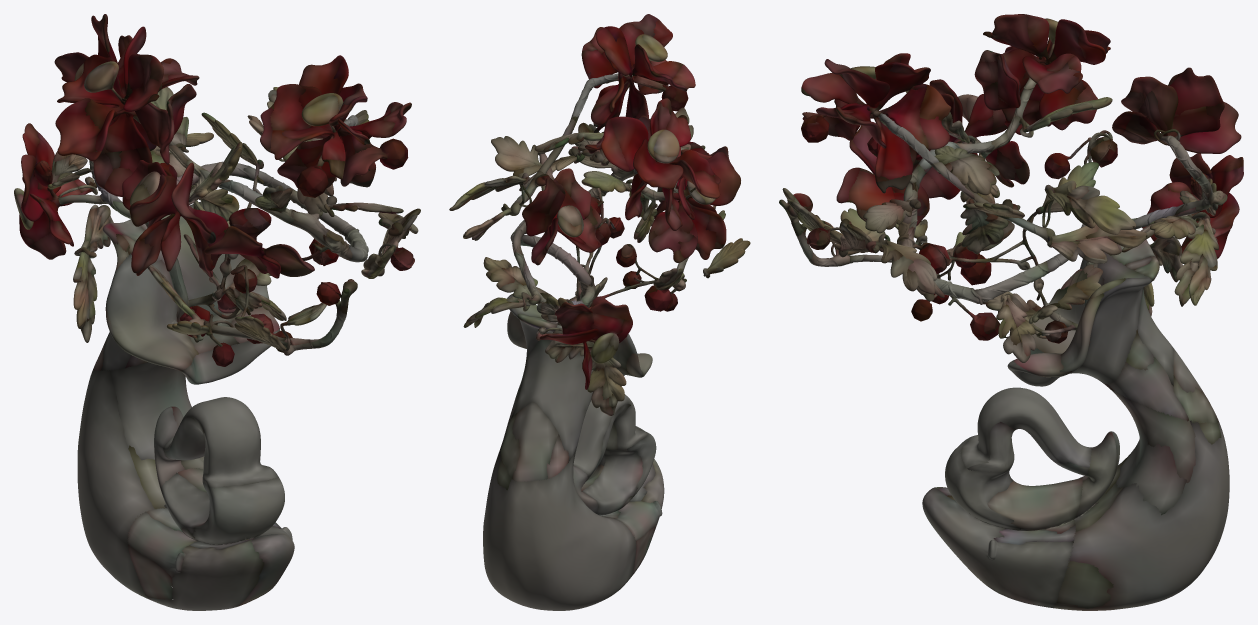
File: flower-metal-sculpture.glb
The picture shows the model from 3 angles, left to right: view 1: azimuth 30°, elevation 25°; view 2: azimuth 150°, elevation 25°; view 3: azimuth 270°, elevation 25°; orthographic projection. The views are drawn at different scales.
Parts seen in each view (by area): view 1: tripo_node_d467bcfb-e88e-4479-8cf7-046dac9aa74f; view 2: tripo_node_d467bcfb-e88e-4479-8cf7-046dac9aa74f; view 3: tripo_node_d467bcfb-e88e-4479-8cf7-046dac9aa74f.
Part boxes in pixels (bbox=[...]): tripo_node_d467bcfb-e88e-4479-8cf7-046dac9aa74f: bbox=[14, 14, 420, 610]; tripo_node_d467bcfb-e88e-4479-8cf7-046dac9aa74f: bbox=[449, 14, 750, 610]; tripo_node_d467bcfb-e88e-4479-8cf7-046dac9aa74f: bbox=[779, 14, 1243, 610].
Size of the model in its own units: 0.5157 by 0.9803 by 0.738.
Materials: 1 (1 with a texture image).
